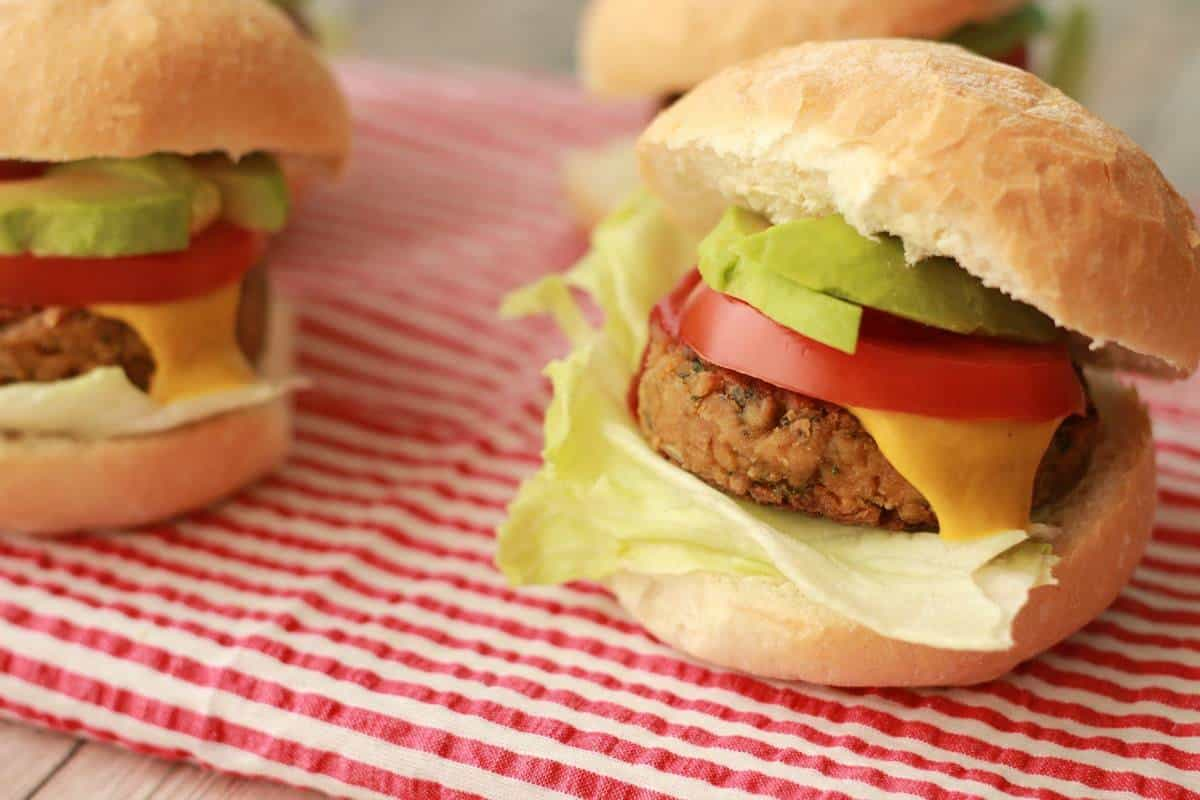hamburger_buns: (606, 33, 1200, 339), (531, 471, 1200, 696)
